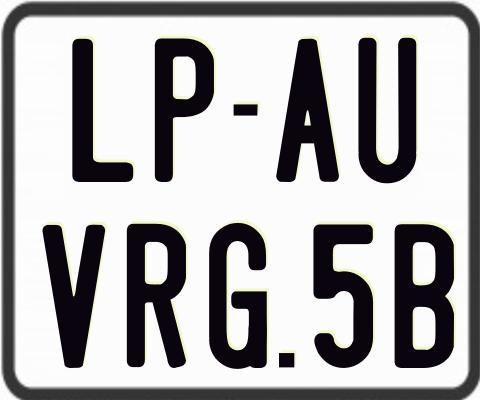5: (310, 222, 371, 370)
A: (276, 36, 339, 183)
B: (393, 222, 455, 366)
G: (208, 223, 271, 371)
L: (69, 36, 134, 181)
P: (153, 38, 212, 184)
R: (126, 224, 188, 374)
U: (355, 37, 419, 185)
V: (43, 224, 108, 367)
